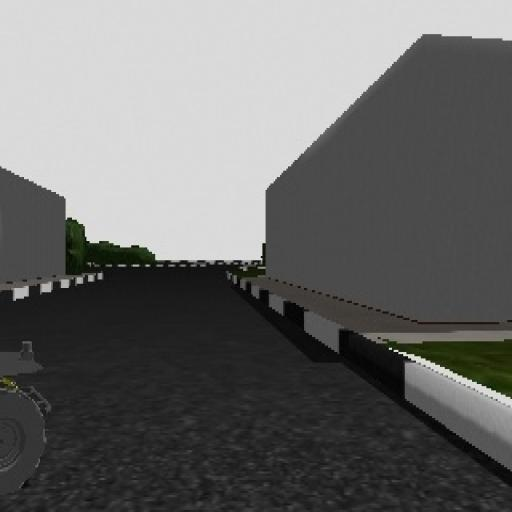huskya200: (0, 301, 53, 510)
